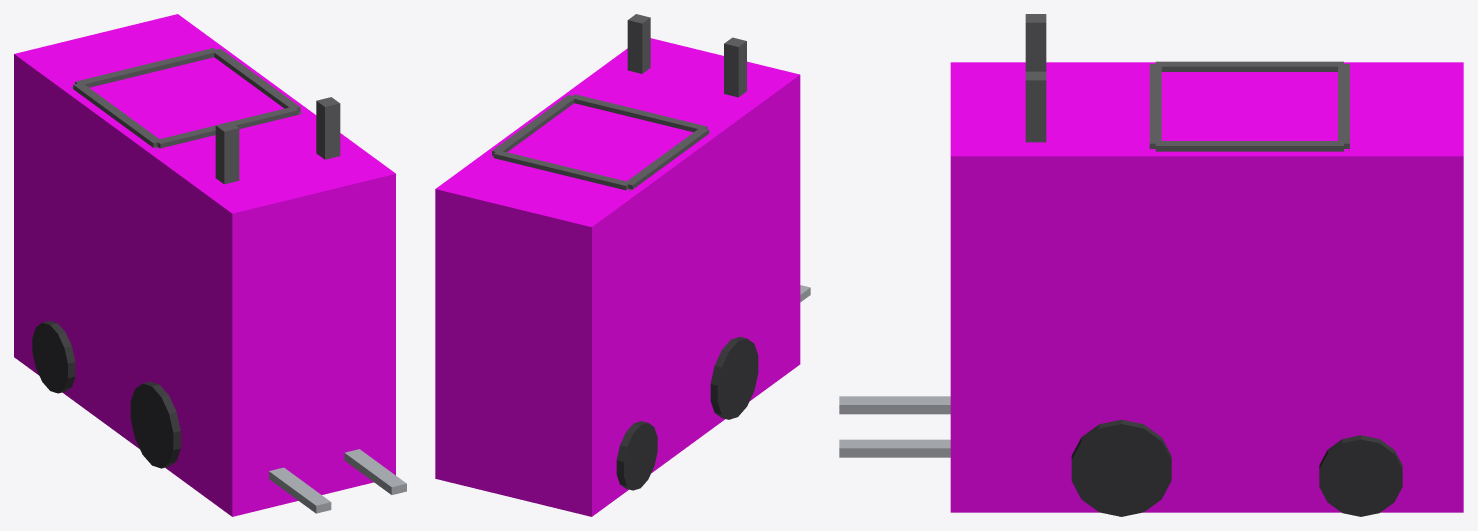
Rendered from forklift.glb.
3 renders of one model, left to right at view 1: azimuth 30°, elevation 25°; view 2: azimuth 150°, elevation 25°; view 3: azimuth 270°, elevation 25°, orthographic. The views are drawn at different scales.
Parts seen in each view (by area): view 1: COL_Forklift, Fork_Cage, ForkWheel_FR, Fork_Mast, Forks, ForkWheel_RR; view 2: COL_Forklift, Fork_Cage, ForkWheel_FR, Fork_Mast, ForkWheel_RR; view 3: COL_Forklift, ForkWheel_FL, Fork_Cage, ForkWheel_RL, Forks, Fork_Mast.
Boxes of the visible parts, box(x1,y1,x2,y2) form: COL_Forklift: box(14, 14, 395, 516); Fork_Cage: box(71, 48, 302, 149); ForkWheel_FR: box(130, 381, 180, 468); Fork_Mast: box(215, 97, 340, 184); Forks: box(269, 449, 406, 513); ForkWheel_RR: box(32, 321, 75, 393); COL_Forklift: box(435, 38, 800, 516); Fork_Cage: box(490, 94, 710, 191); ForkWheel_FR: box(710, 337, 758, 419); Fork_Mast: box(627, 14, 746, 97); ForkWheel_RR: box(616, 421, 657, 490); COL_Forklift: box(950, 62, 1463, 512); ForkWheel_FL: box(1071, 419, 1171, 516); Fork_Cage: box(1149, 61, 1349, 151); ForkWheel_RL: box(1319, 435, 1402, 516); Forks: box(839, 396, 950, 457); Fork_Mast: box(1025, 14, 1046, 142).
Size of the model in its own units: 1.42 by 2.7 by 3.65.
